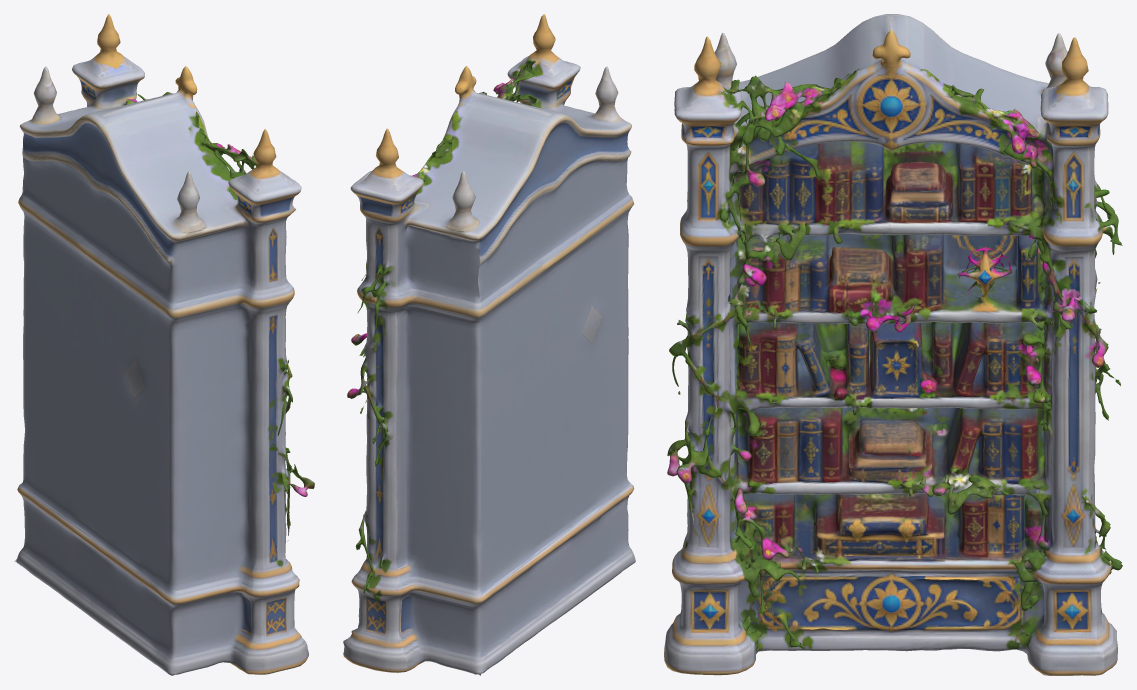
3 renders of one model, left to right at view 1: azimuth 30°, elevation 25°; view 2: azimuth 150°, elevation 25°; view 3: azimuth 270°, elevation 25°, orthographic. The views are drawn at different scales.
Parts seen in each view (by area): view 1: tripo_node_0abc041d-097e-432a-b8b7-ff58c5190206; view 2: tripo_node_0abc041d-097e-432a-b8b7-ff58c5190206; view 3: tripo_node_0abc041d-097e-432a-b8b7-ff58c5190206.
Boxes of the visible parts, x1,y1,x2,y2 form: tripo_node_0abc041d-097e-432a-b8b7-ff58c5190206: [14, 14, 314, 675]; tripo_node_0abc041d-097e-432a-b8b7-ff58c5190206: [343, 14, 635, 675]; tripo_node_0abc041d-097e-432a-b8b7-ff58c5190206: [664, 14, 1122, 675].
Size of the model in its own units: 0.2529 by 0.9669 by 0.6415.
1 material, 1 textured.
